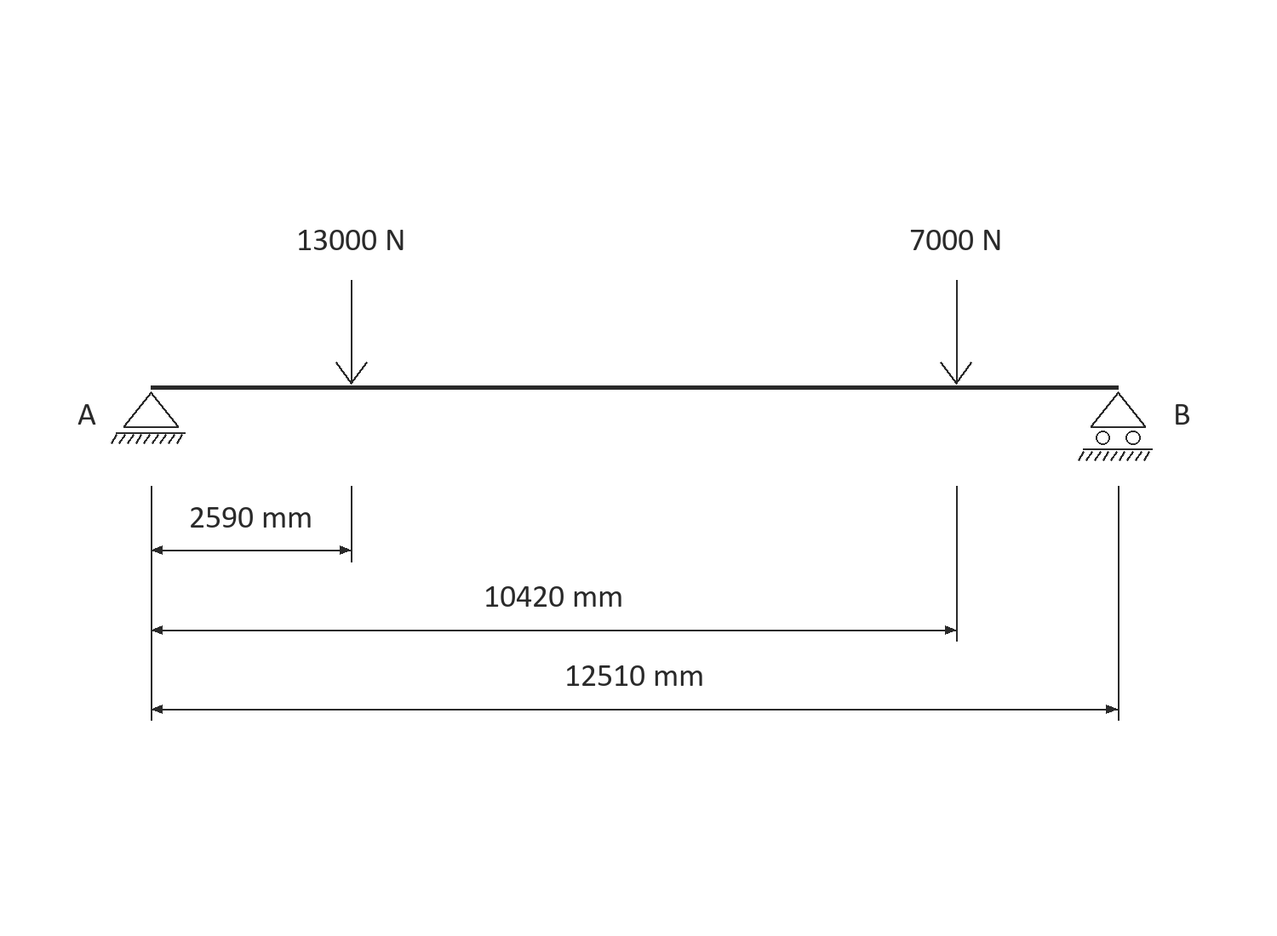pin_support: (111, 391, 186, 444)
point_load: (335, 280, 368, 385), (940, 280, 972, 385)
roller_support: (1078, 391, 1153, 461)
